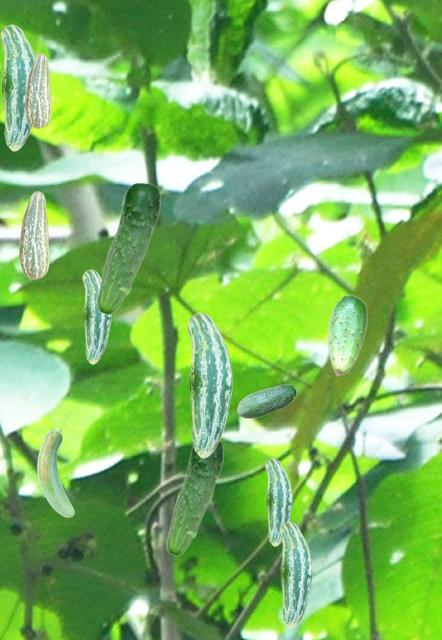cucumber: (95, 182, 160, 314), (165, 441, 223, 555), (187, 312, 231, 457), (0, 24, 35, 150), (279, 521, 311, 627), (327, 294, 366, 375), (37, 429, 73, 516), (82, 269, 110, 363), (19, 191, 48, 278), (265, 458, 291, 545), (237, 384, 296, 417), (25, 53, 50, 127)
